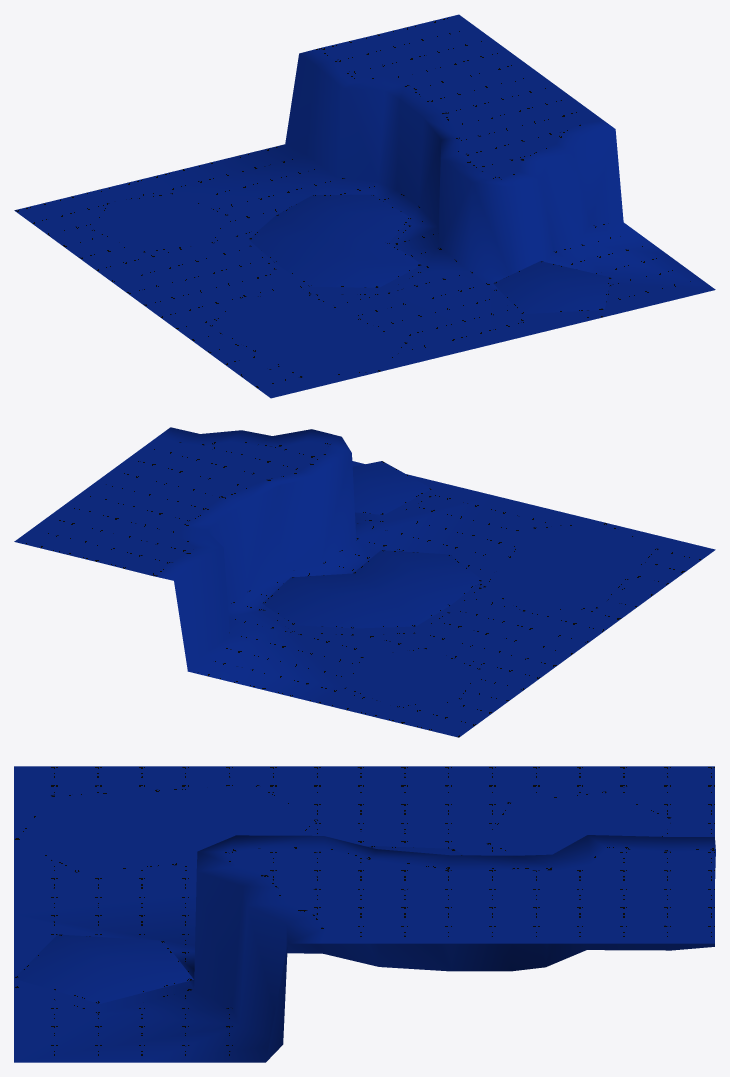
The model's file is GRD_S_C7_2.fbx.
The picture shows the model from 3 angles, top to bottom: view 1: azimuth 30°, elevation 25°; view 2: azimuth 150°, elevation 25°; view 3: azimuth 270°, elevation 25°; orthographic projection. The views are drawn at different scales.
Visible parts, largest first — view 1: material_00032000, material_00022000, material_C0042000, material_C0012000, material_C0052000; view 2: material_00032000, material_00022000, material_C0042000, material_C0012000, material_C0052000; view 3: material_00032000, material_00022000, material_C0042000, material_C0012000, material_C0052000.
Part boxes in pixels (<box>): material_00032000: <box>14,14,715,398</box>; material_00022000: <box>285,48,623,275</box>; material_C0042000: <box>91,193,407,378</box>; material_C0012000: <box>249,194,611,314</box>; material_C0052000: <box>249,223,611,321</box>; material_00032000: <box>14,436,715,737</box>; material_00022000: <box>153,427,356,671</box>; material_C0042000: <box>343,522,658,707</box>; material_C0012000: <box>262,461,482,628</box>; material_C0052000: <box>262,492,482,635</box>; material_00032000: <box>14,766,715,1062</box>; material_00022000: <box>194,835,715,1061</box>; material_C0042000: <box>14,784,672,873</box>; material_C0012000: <box>14,846,463,1003</box>; material_C0052000: <box>14,981,193,1013</box>.
Bounding box in the file's own units: 12800 × 2400 × 12820.
